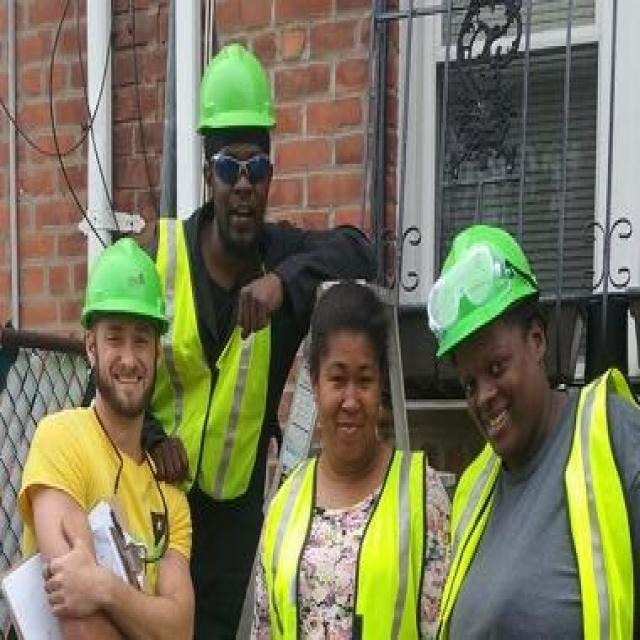Reflective-Jacket: (439, 381, 640, 639), (148, 220, 296, 507), (261, 443, 436, 640)
Safety-Helmet: (419, 215, 556, 364), (186, 36, 286, 146), (76, 233, 175, 335)
